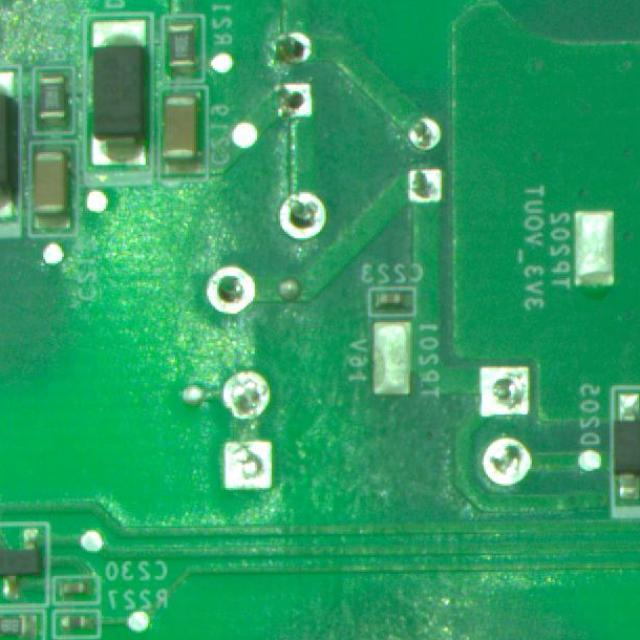Insufficient solder: (214, 433, 288, 514), (190, 259, 262, 325), (472, 421, 538, 492), (460, 362, 536, 421), (214, 366, 275, 427), (274, 185, 337, 242), (386, 106, 453, 156), (264, 74, 318, 134), (266, 19, 320, 72), (405, 156, 453, 210)
